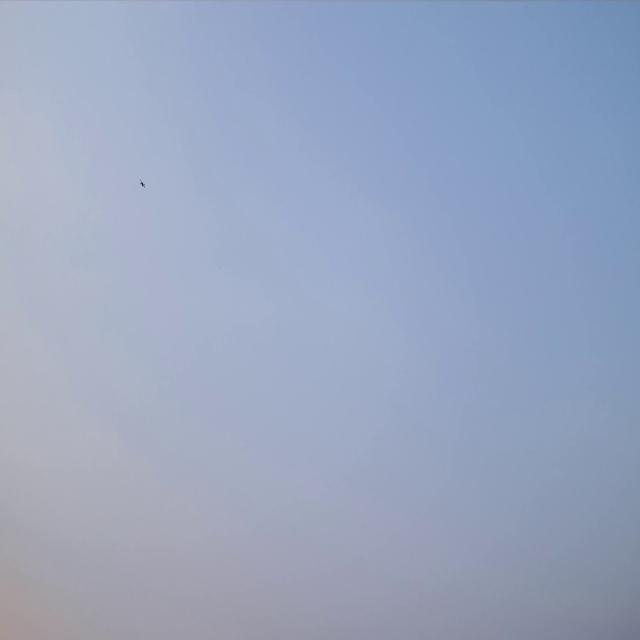UAV: (140, 178, 146, 189)
